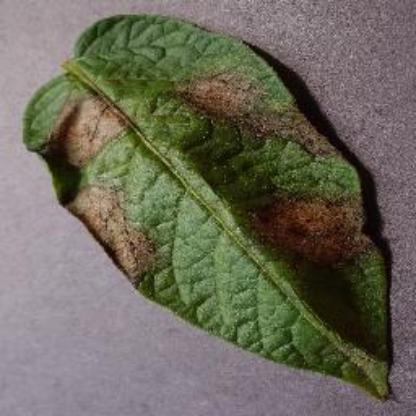Late-Blight: (18, 11, 400, 403)
